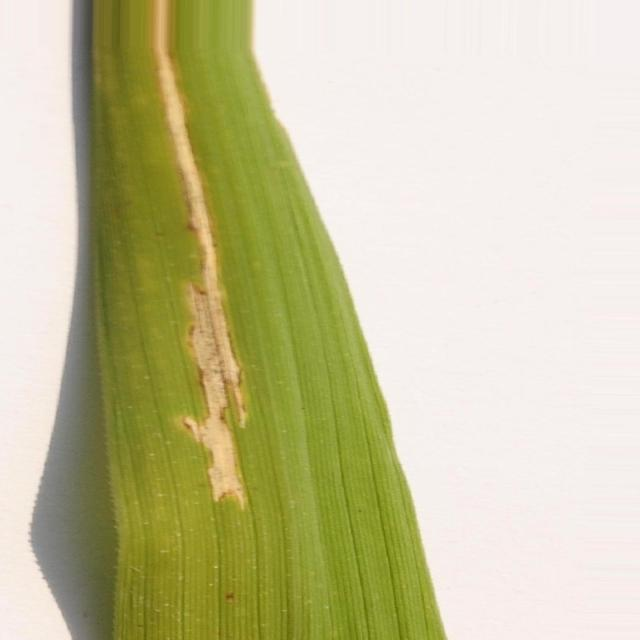Bacterial_Leaf_Blight: (154, 12, 246, 508)
